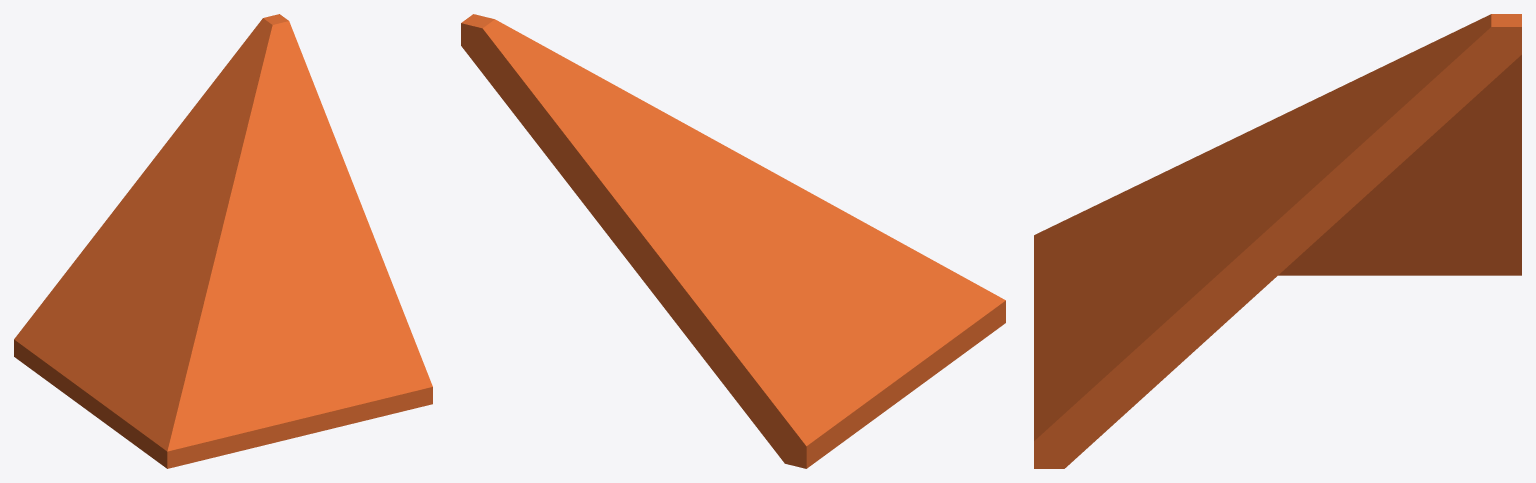
Rendered from CeilingCorner2m.glb.
3 views of the same model, side by side, from view 1: azimuth 30°, elevation 25°; view 2: azimuth 150°, elevation 25°; view 3: azimuth 270°, elevation 25° (orthographic). The views are drawn at different scales.
Visible parts, largest first — view 1: CeilingCorner2m; view 2: CeilingCorner2m; view 3: CeilingCorner2m.
Boxes of the visible parts, <box> form: CeilingCorner2m: <box>14,14,432,468</box>; CeilingCorner2m: <box>461,14,1005,468</box>; CeilingCorner2m: <box>1034,14,1521,468</box>.
Bounding box in the file's own units: 2 × 2 × 2.
